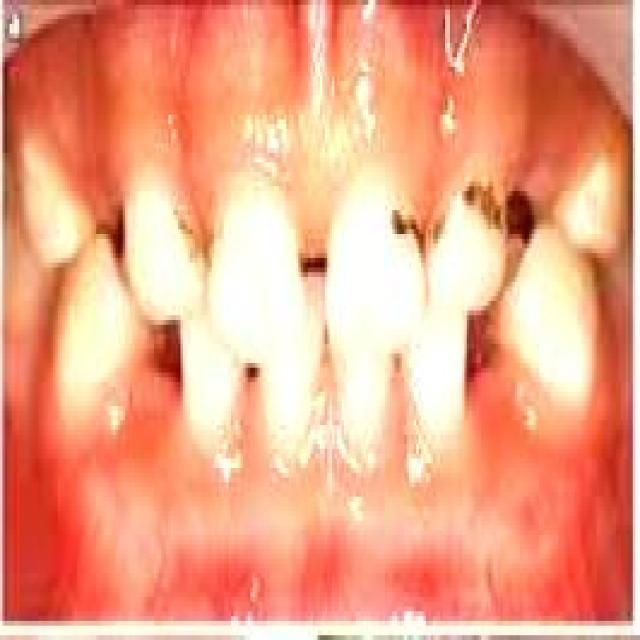caries: (387, 180, 444, 264), (456, 158, 510, 244), (498, 176, 546, 258)
